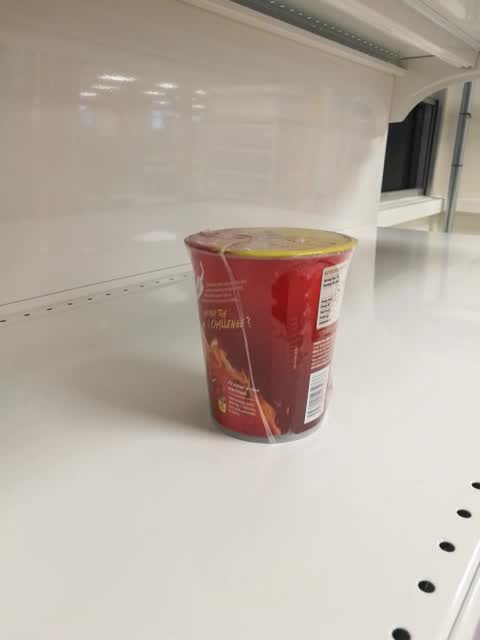maggi: (183, 226, 360, 446)
